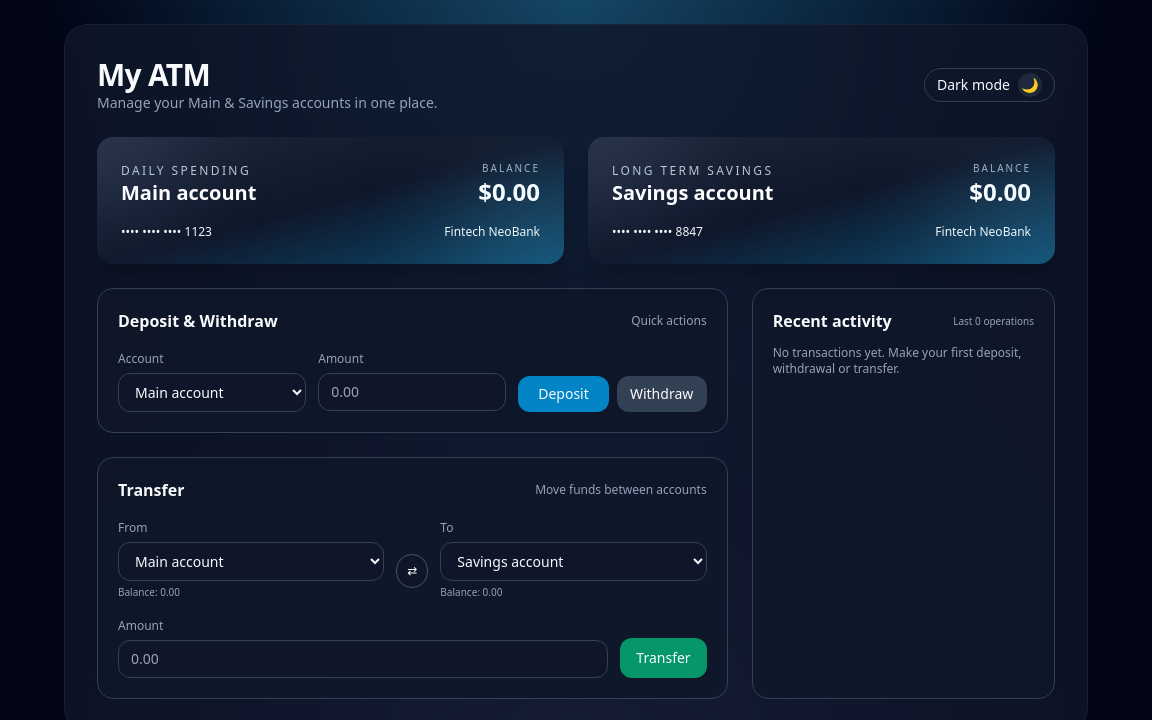
Test: Automaticaly recorded tests › Transfer
Select "Savings account" in the dropdown with test id "operation-account-select" at (212, 393), box [118, 373, 306, 412]
Type "100" into the number field with test id "operation-amount-input" at (412, 392), box [318, 373, 506, 411]
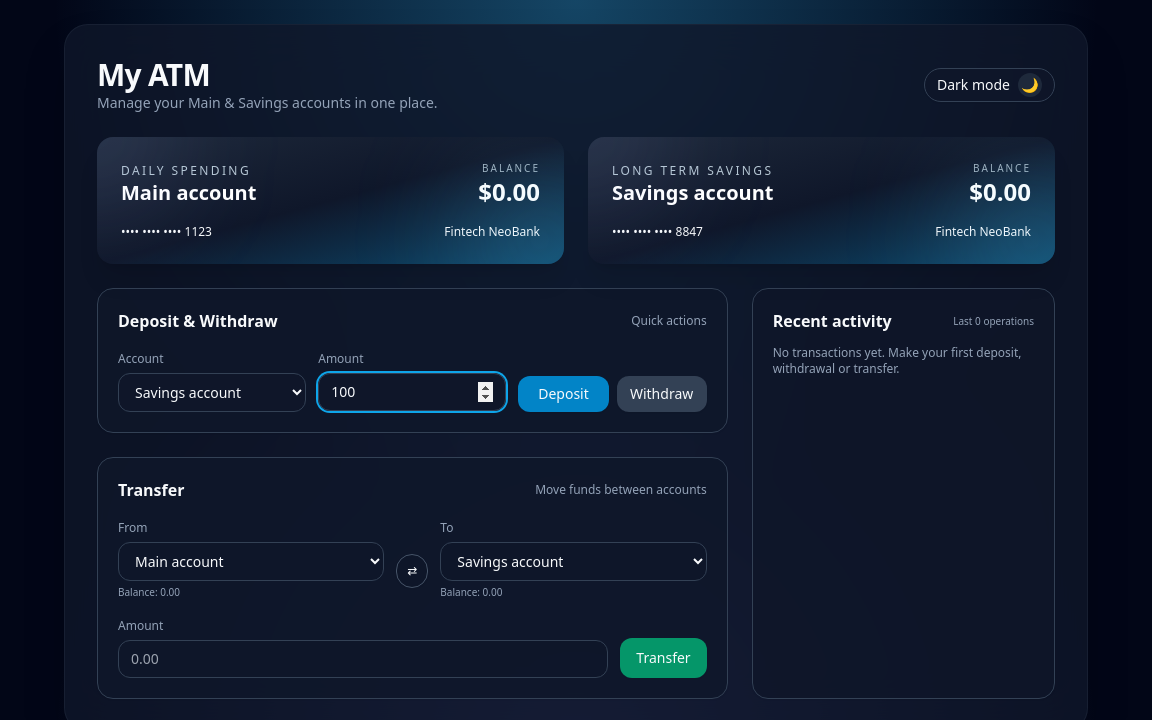
Click the button with test id "deposit-btn" at (563, 394), box [518, 376, 608, 412]
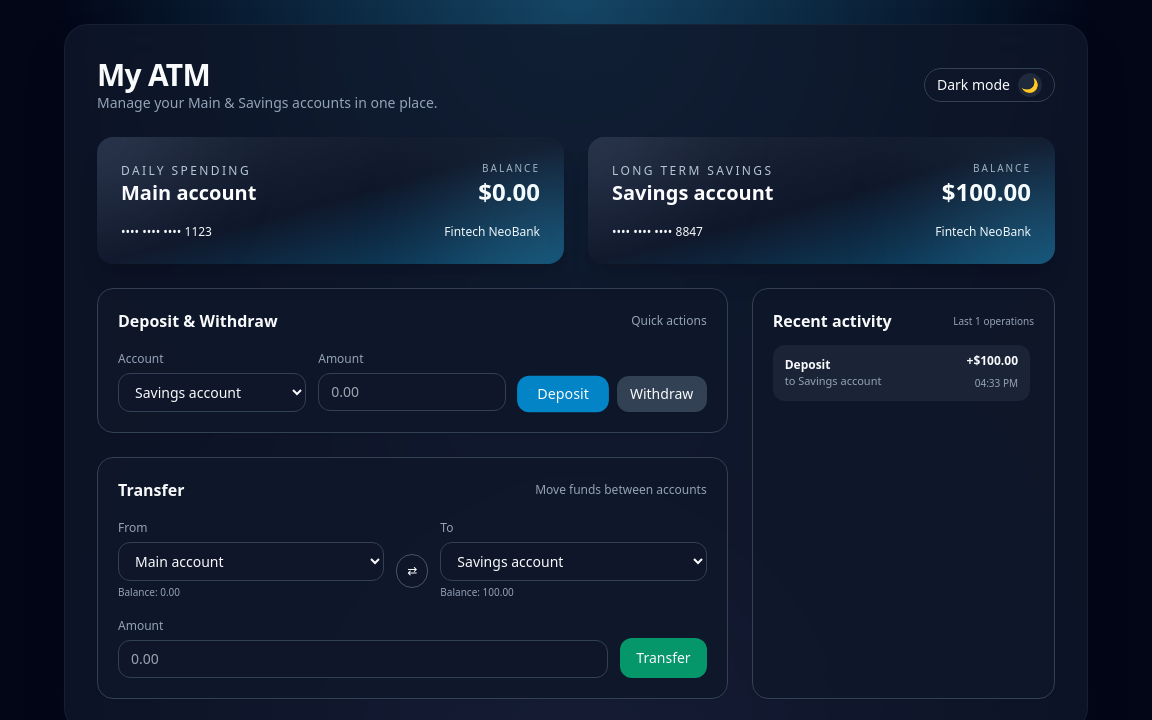
Select "Main account" in the dropdown with test id "operation-account-select" at (212, 393), box [118, 373, 306, 412]
Type "100" into the number field with test id "operation-amount-input" at (412, 392), box [318, 373, 506, 411]
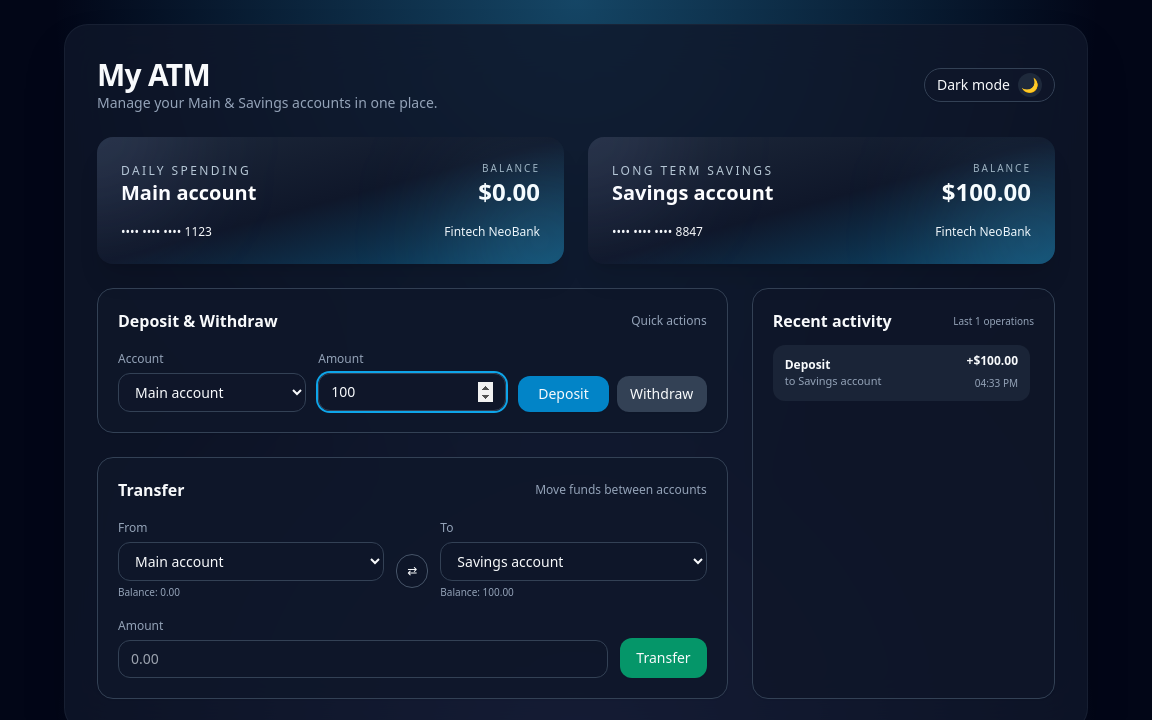
Click the button with test id "deposit-btn" at (563, 394), box [518, 376, 608, 412]
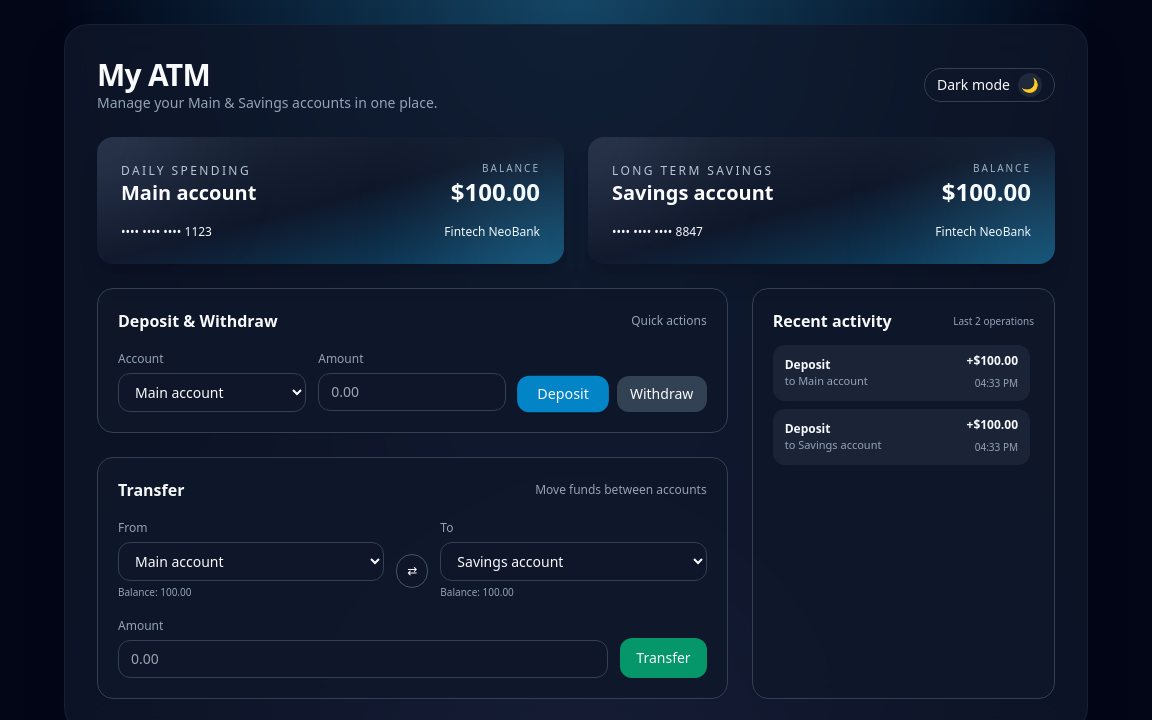
Type "10" into the number field with test id "transfer-amount" at (363, 659), box [118, 640, 608, 678]
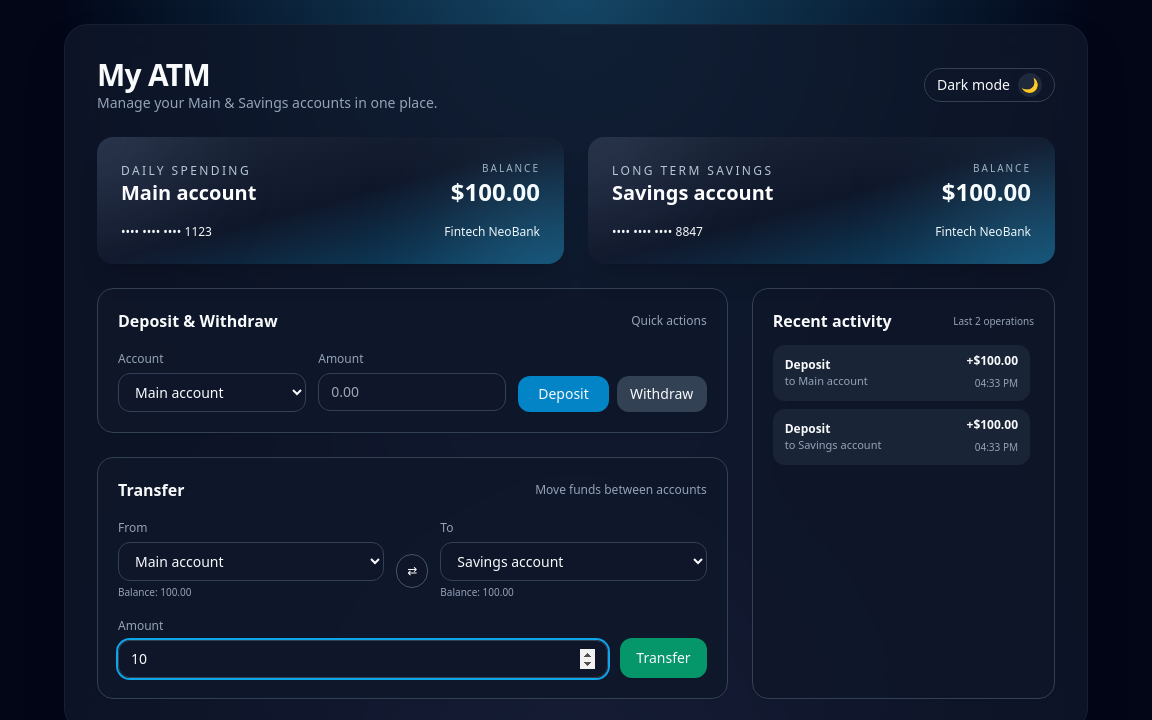
Click the button with test id "transfer-btn" at (663, 658), box [620, 638, 706, 678]
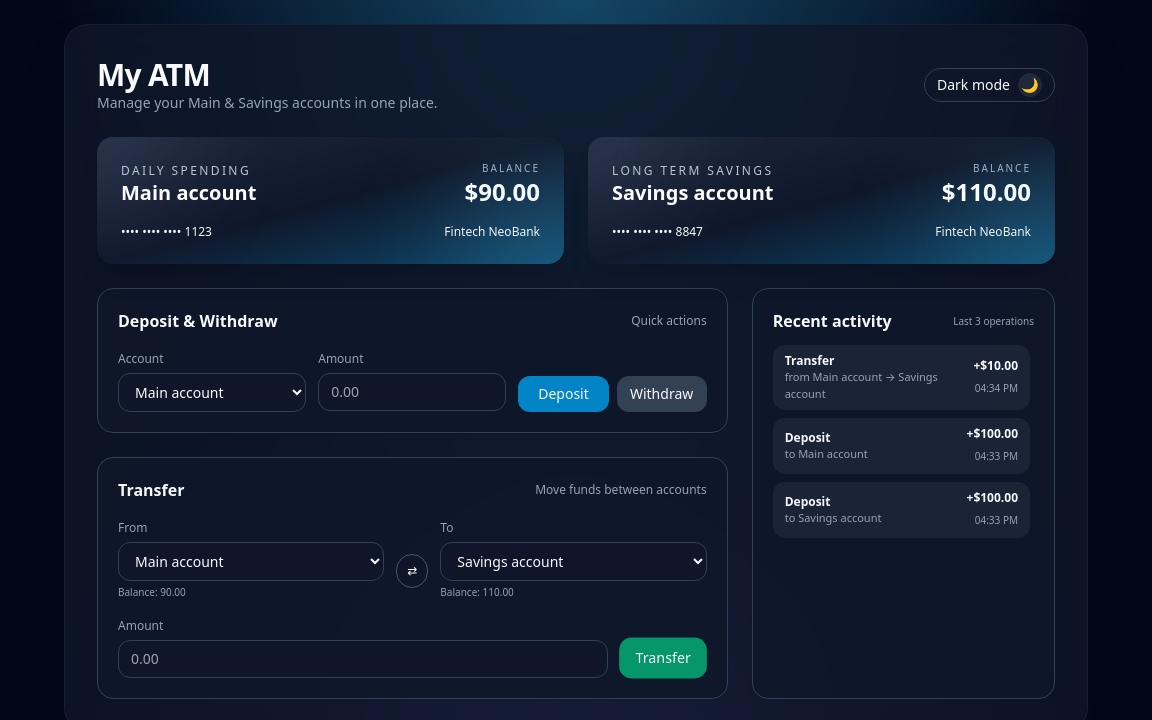
Expected: the text with test id "balance-main" reads "$90.00", [465, 176, 541, 208]
Expected: the text with test id "balance-savings" reads "$110.00", [942, 176, 1031, 208]
Expected: the text "+$10.00" is shown, [973, 358, 1018, 374]
